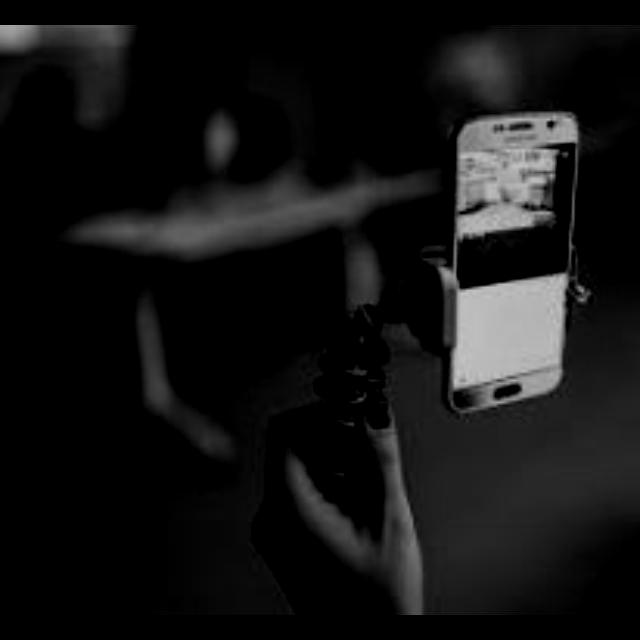fake: (448, 108, 580, 434)
